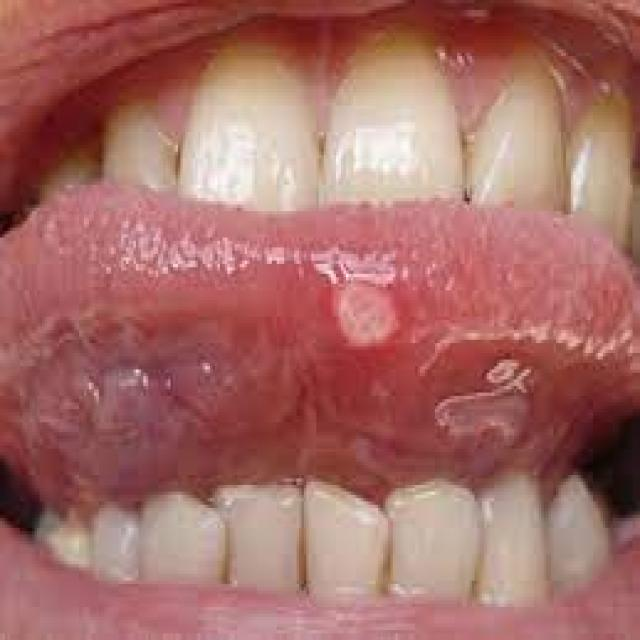processing_area: (0, 175, 638, 500)
ulcer-detection: (310, 248, 423, 378)
